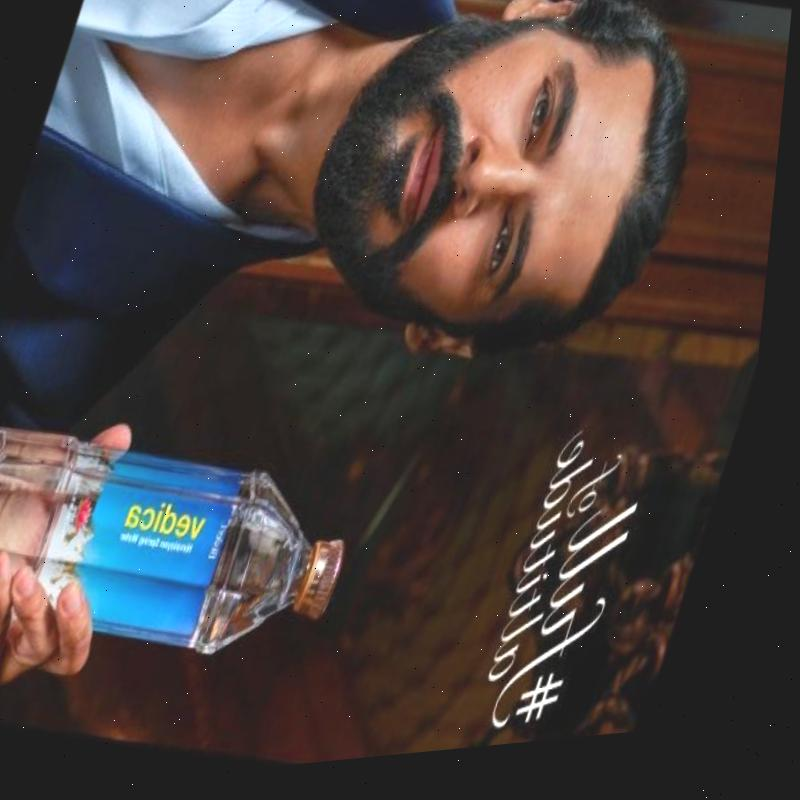botella: (0, 390, 386, 707)
